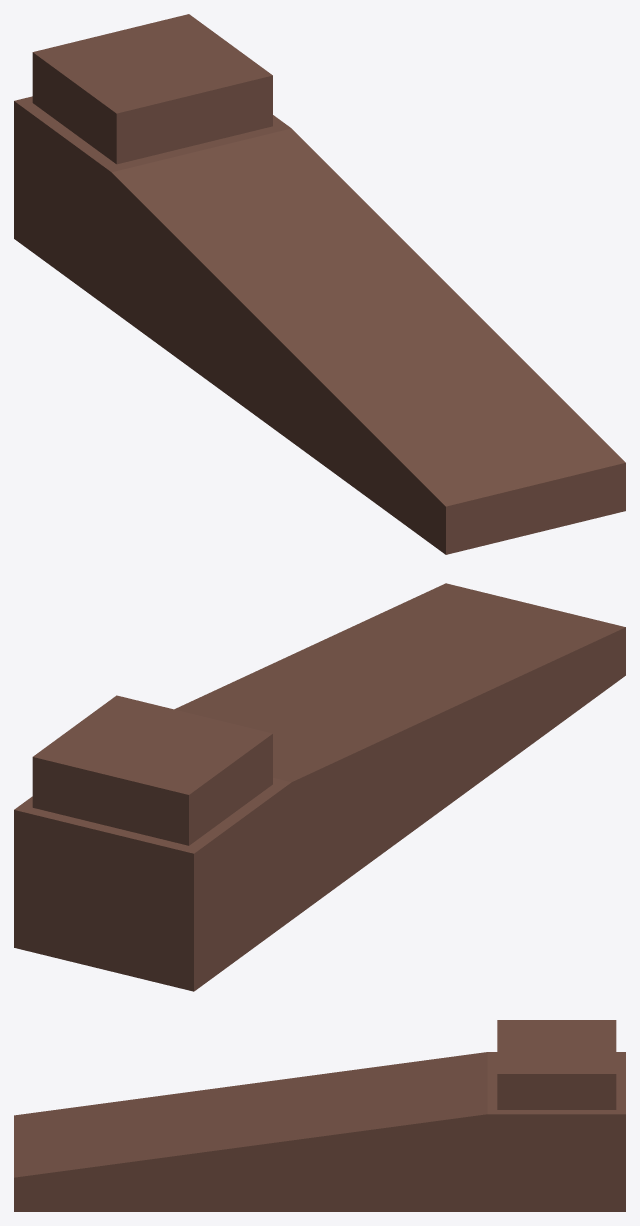
Rendered from Lego_Part_20.fbx.
The picture shows the model from 3 angles, top to bottom: view 1: azimuth 30°, elevation 25°; view 2: azimuth 150°, elevation 25°; view 3: azimuth 270°, elevation 25°; orthographic projection. The views are drawn at different scales.
Parts seen in each view (by area): view 1: Lego_Part_20; view 2: Lego_Part_20; view 3: Lego_Part_20.
Boxes of the visible parts, x1,y1,x2,y2 form: Lego_Part_20: (14, 14, 625, 554); Lego_Part_20: (14, 583, 625, 991); Lego_Part_20: (14, 1020, 625, 1211).
Bounding box in the file's own units: 1.55 × 1.55 × 6.43.
Materials: 1 (1 with a texture image).
